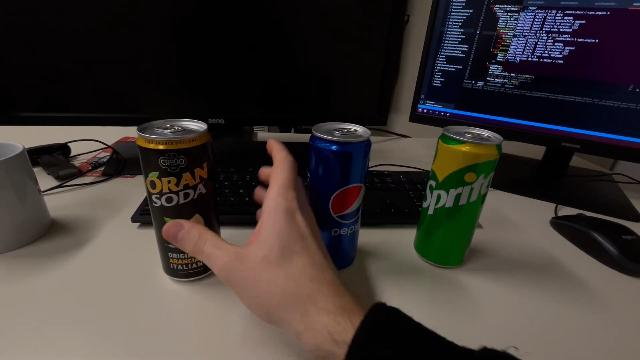OranSoda: (136, 116, 222, 284)
Pepsi: (304, 119, 374, 273)
Sprite: (411, 124, 505, 272)
